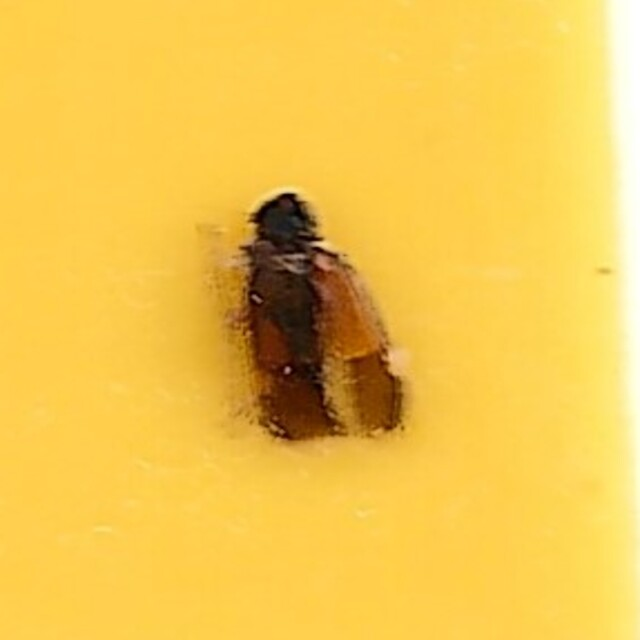Hemiptera: (223, 190, 417, 450)
